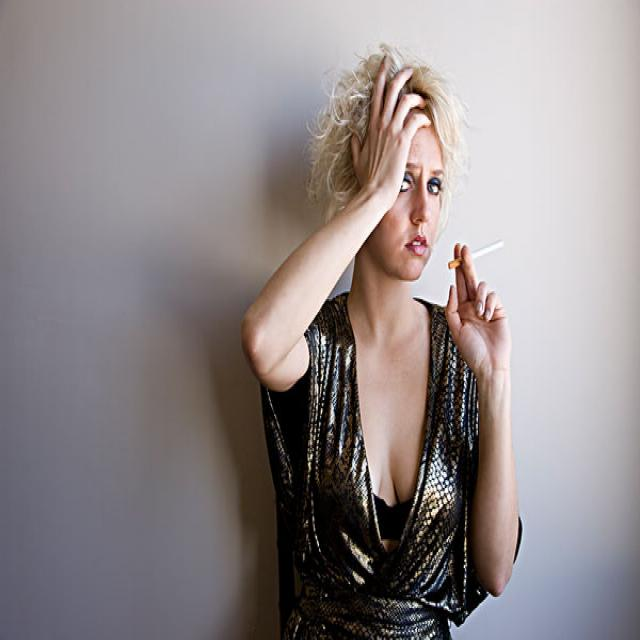smoking: (448, 239, 504, 271)
